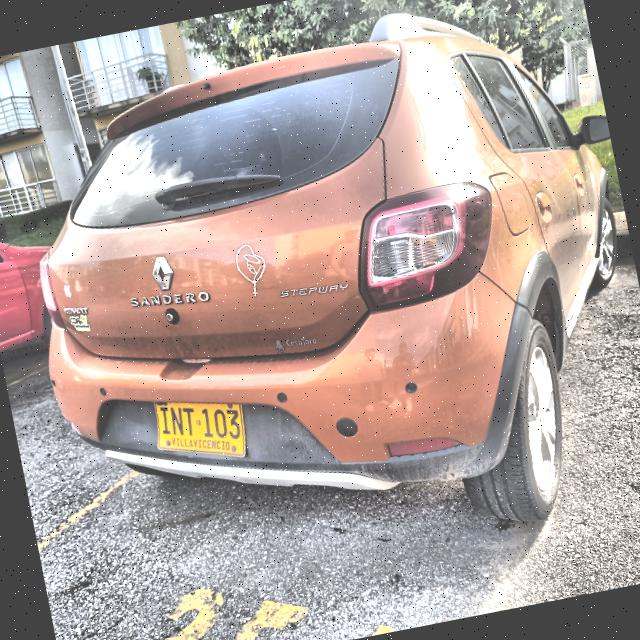plate: (155, 403, 243, 456)
